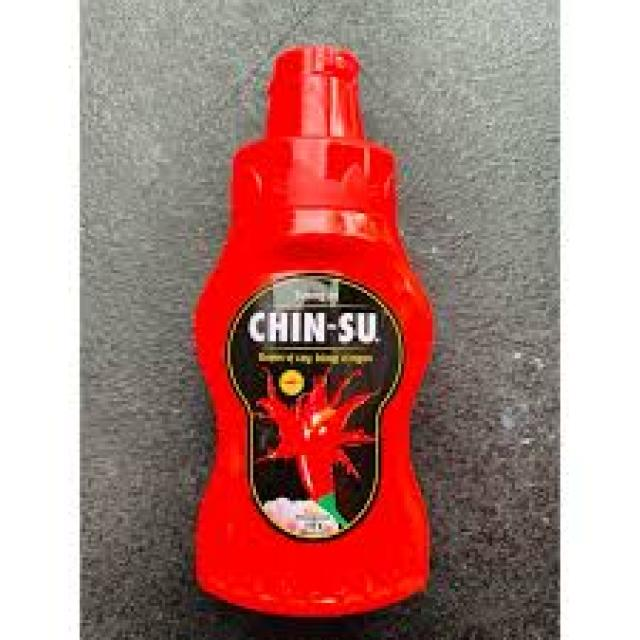tuong ot chinsu: (192, 43, 442, 614)
